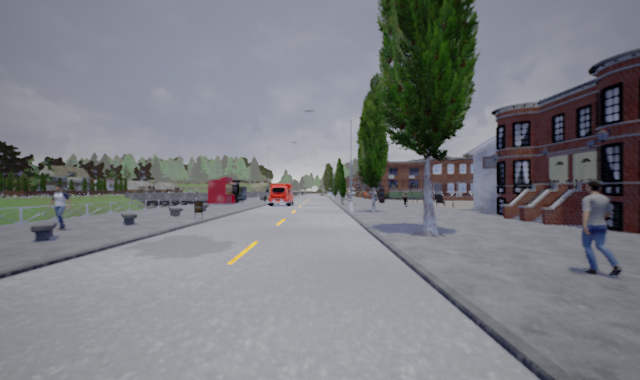pedestrian: (577, 174, 620, 278), (46, 183, 72, 232)
vehicle: (264, 182, 294, 207)
